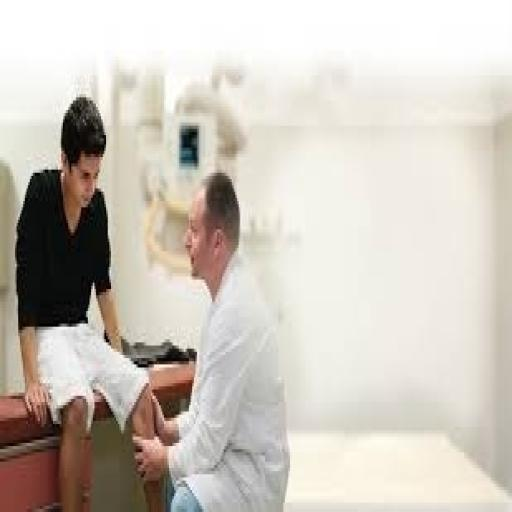sitting: (12, 91, 168, 509), (131, 166, 292, 509)
